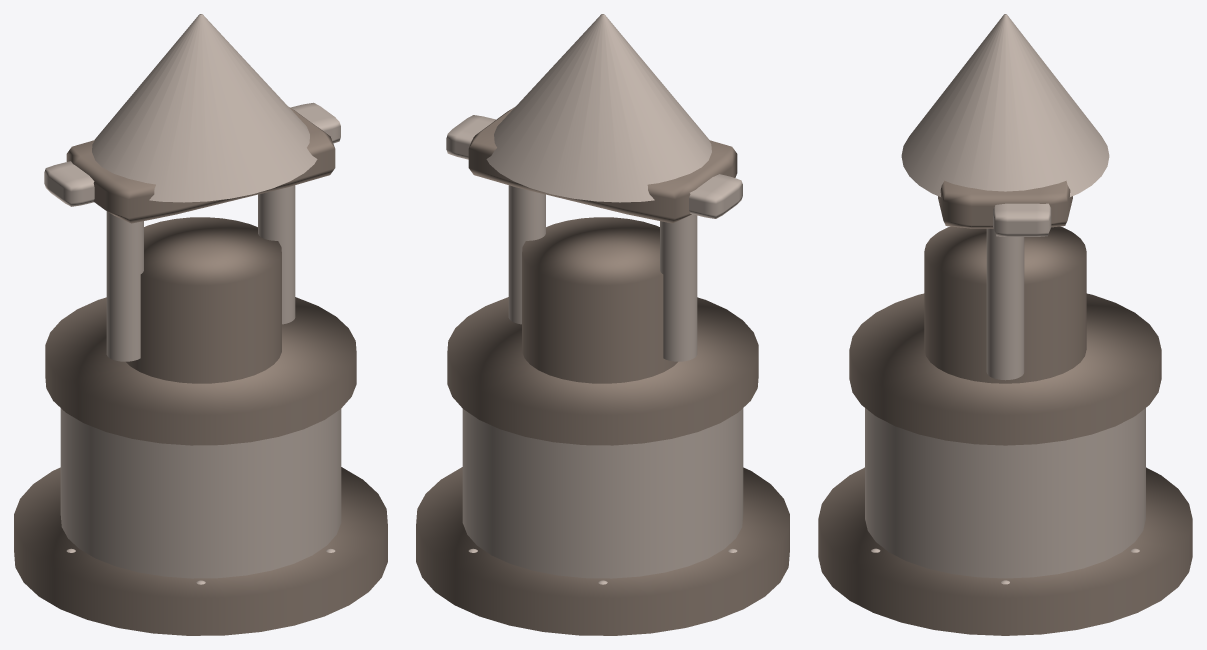
The model's file is temple_l2.glb.
The picture shows the model from 3 angles, left to right: view 1: azimuth 30°, elevation 25°; view 2: azimuth 150°, elevation 25°; view 3: azimuth 270°, elevation 25°; orthographic projection.
Visible parts, largest first — view 1: base, footing, baseCollar, roof, shaft, pillar (×2), lintel, PillarCapital-1, PillarCapital1; view 2: base, footing, baseCollar, roof, shaft, pillar (×2), lintel, PillarCapital-1, PillarCapital1; view 3: base, footing, baseCollar, roof, shaft, pillar, lintel, PillarCapital1.
Part boxes in pixels (x1,y1,x2,y2): base: [60, 408, 341, 578]; footing: [14, 467, 387, 635]; baseCollar: [45, 297, 356, 445]; roof: [92, 14, 317, 202]; shaft: [126, 217, 281, 383]; pillar (×2): [106, 185, 295, 361]; lintel: [66, 107, 335, 223]; PillarCapital-1: [44, 161, 94, 206]; PillarCapital1: [290, 102, 340, 143]; base: [462, 408, 743, 578]; footing: [416, 467, 789, 635]; baseCollar: [447, 297, 758, 445]; roof: [486, 14, 711, 202]; shaft: [522, 217, 677, 383]; pillar (×2): [508, 185, 697, 361]; lintel: [468, 107, 737, 223]; PillarCapital-1: [689, 174, 742, 218]; PillarCapital1: [446, 115, 495, 159]; base: [865, 408, 1145, 578]; footing: [818, 467, 1192, 635]; baseCollar: [849, 293, 1161, 445]; roof: [901, 14, 1109, 196]; shaft: [924, 226, 1086, 383]; pillar: [986, 228, 1024, 380]; lintel: [938, 180, 1072, 228]; PillarCapital1: [993, 203, 1051, 236].
Size of the model in its own units: 1.8 by 2.88 by 1.8.
